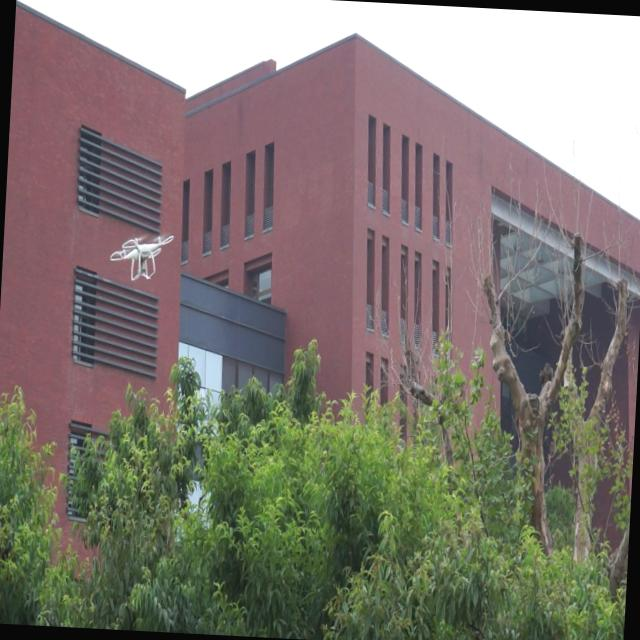drone: (108, 228, 174, 290)
